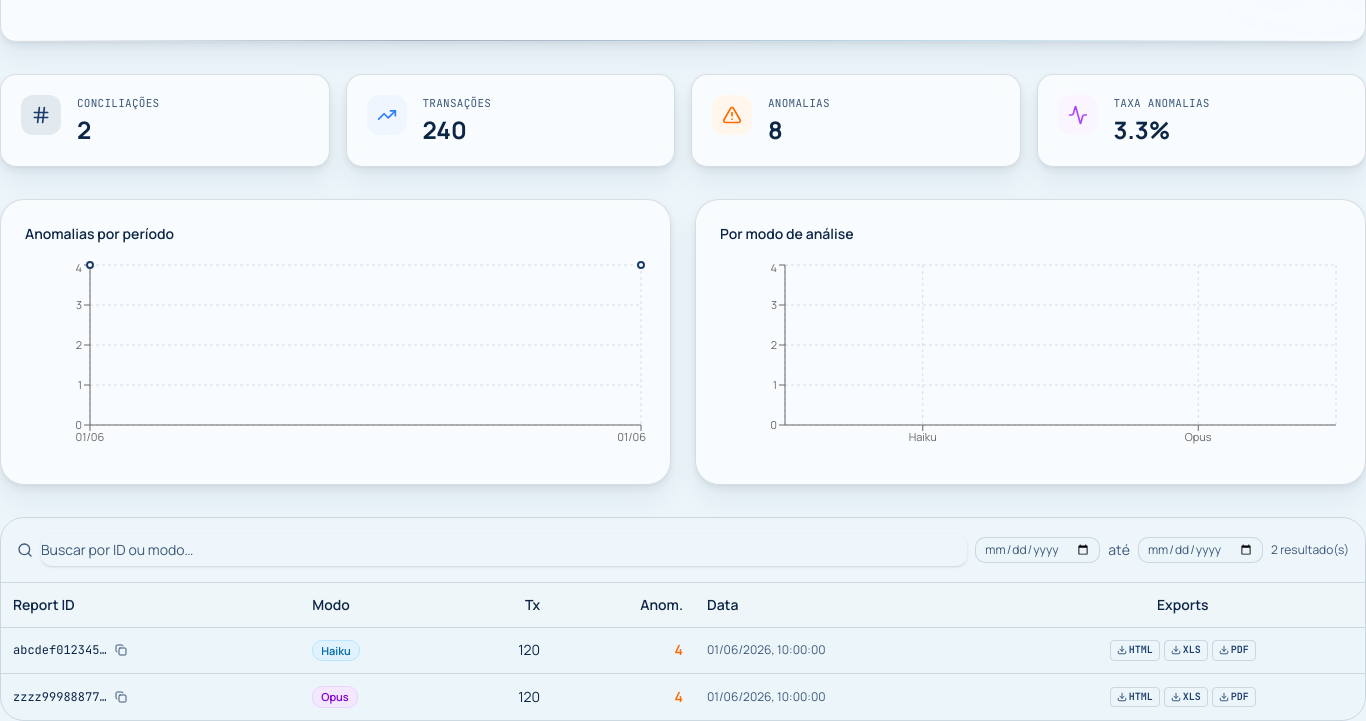
Test: RelatoriosPage › filtra a tabela pela busca por ID/modo
(page scrolled)
Check: the text "abcdef012345…" is shown, box [13,642,107,658]
Check: the text "zzzz99988877…" is shown, box [13,689,107,705]
In the field with placeholder "Buscar por ID ou modo…": (504, 550) [41,534,967,566], type "abcdef"
(page scrolled)
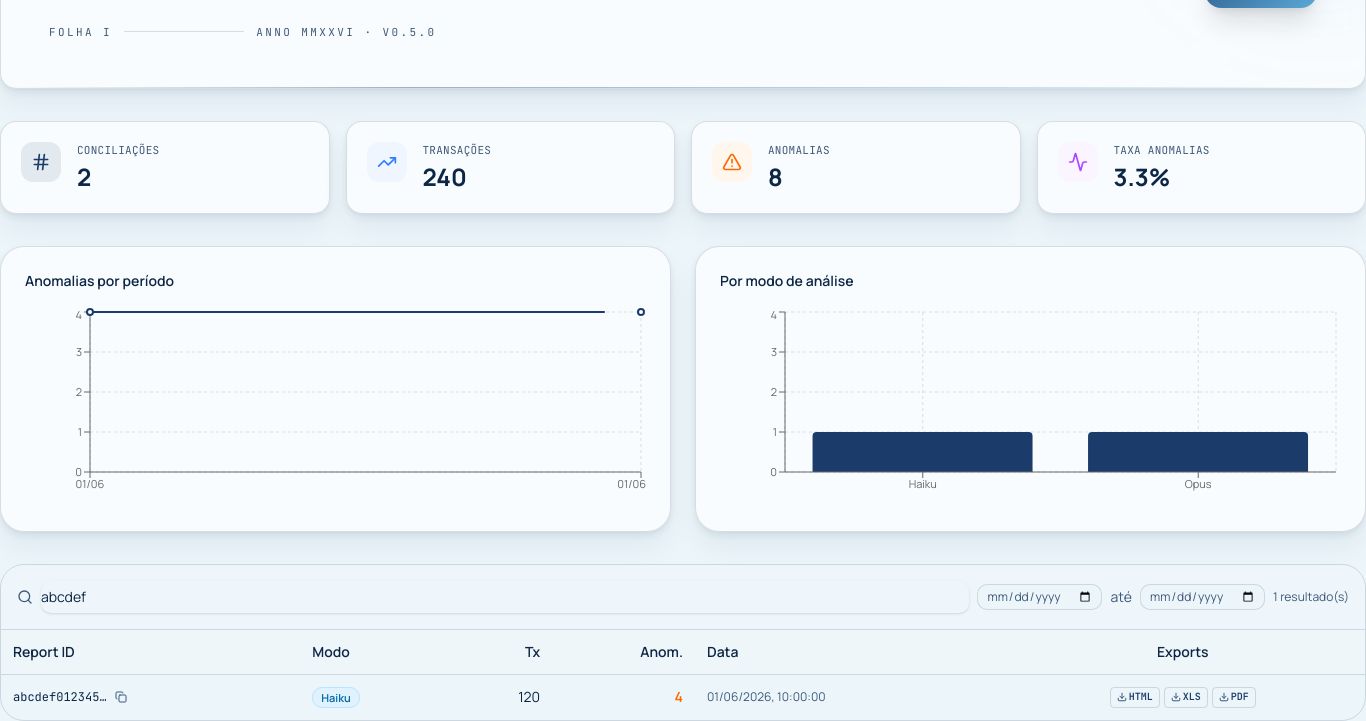
Check: the text "abcdef012345…" is shown, box [13,690,107,706]
Check: the text "zzzz99988877…" is gone
